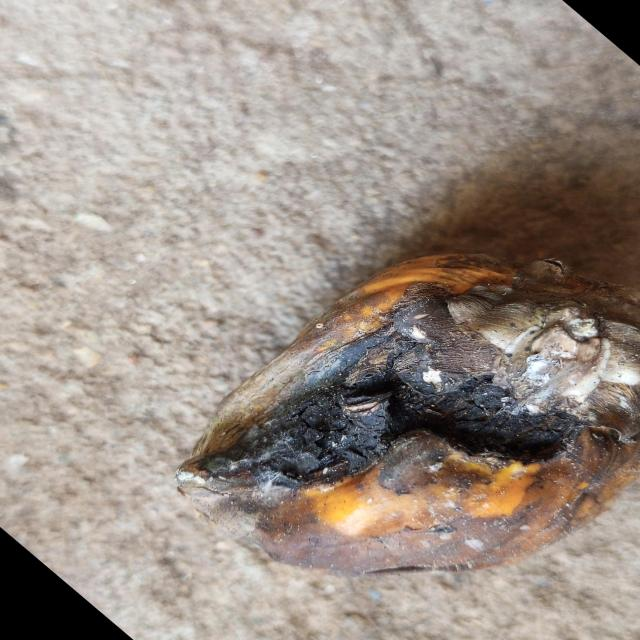damaged: (176, 260, 640, 579)
